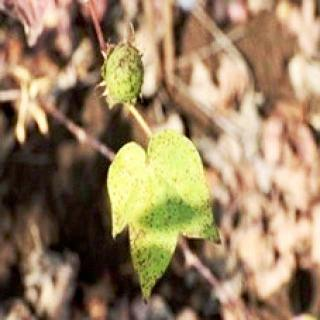leaf spot: (106, 130, 220, 302), (110, 40, 150, 102)
